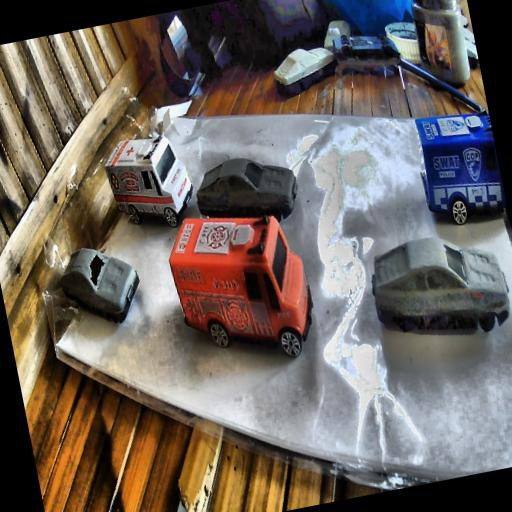ambulance: (98, 124, 199, 239)
fire_truck: (164, 197, 318, 377)
normal_car: (363, 223, 512, 352), (189, 148, 300, 238), (54, 238, 148, 336), (327, 23, 402, 82)
police car: (408, 106, 510, 233)
